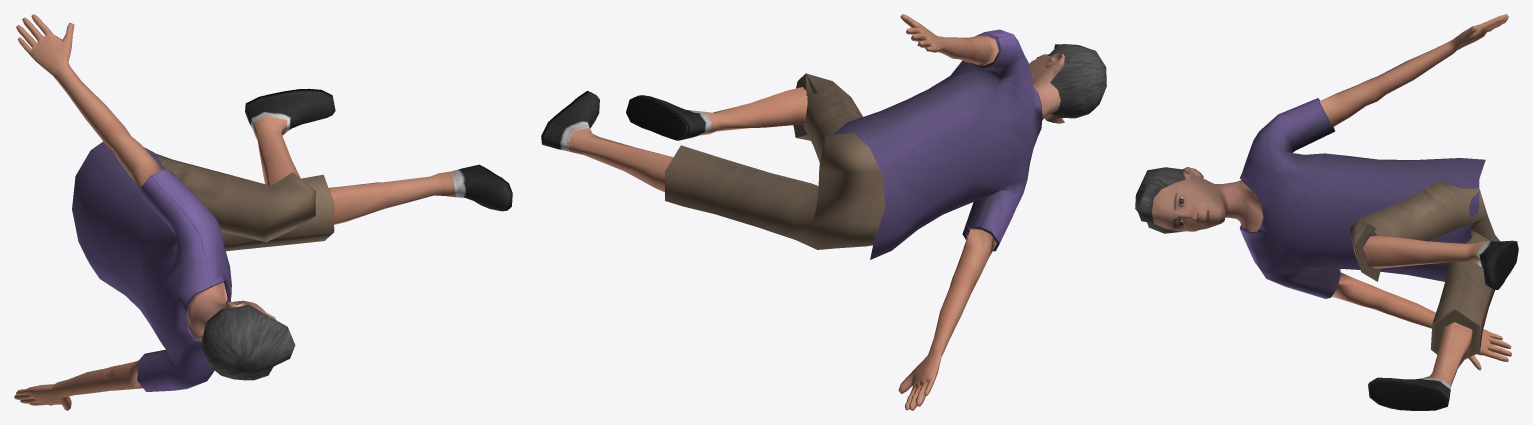
Rendered from man_seated.glb.
3 views of the same model, side by side, from view 1: azimuth 30°, elevation 25°; view 2: azimuth 150°, elevation 25°; view 3: azimuth 270°, elevation 25° (orthographic). The views are drawn at different scales.
Visible parts, largest first — view 1: world; view 2: world; view 3: world.
Part boxes in pixels (<box>): world: <box>14,14,512,410</box>; world: <box>541,14,1106,410</box>; world: <box>1135,14,1518,410</box>.
Bounding box in the file's own units: 1.1 × 0.9581 × 0.9596.
Materials: 1 (1 with a texture image).
